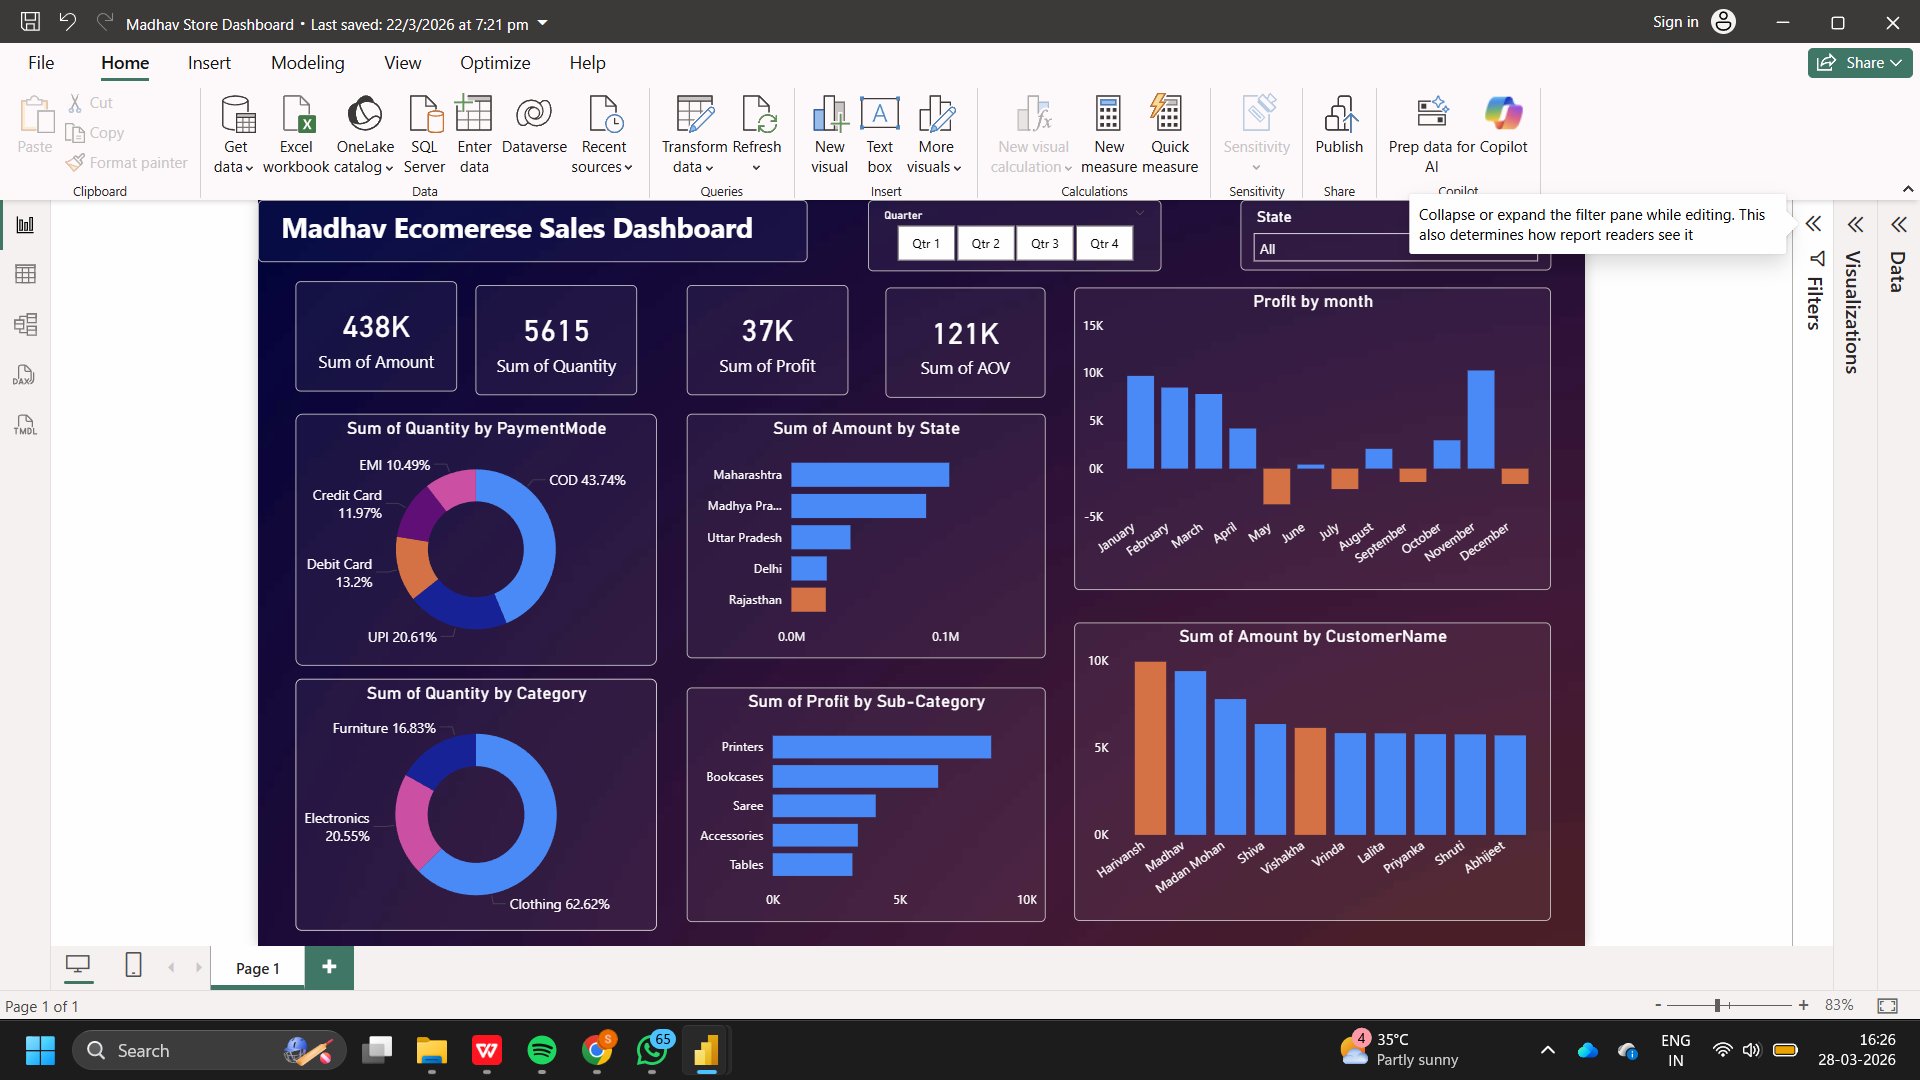

Layout of this report page (visuals, bound fields, positions):
{"tool":"powerbi","page":{"name":"Page 1","canvas":[1280,720],"ordinal":0},"visuals":[{"type":"textbox","box":[0,0,530,60],"z":0},{"type":"clusteredColumnChart","title":"ProfIt by month","fields":{"Category":["Orders.Order Date.Variation.Date Hierarchy.Month"],"Y":["Sum(Details.Profit)"]},"box":[788,84,460,292],"z":1000},{"type":"clusteredBarChart","fields":{"Category":["Details.Sub-Category"],"Y":["Sum(Details.Profit)"]},"box":[414,470,346,226],"z":2000},{"type":"donutChart","fields":{"Category":["Details.Category"],"Y":["Sum(Details.Quantity)"]},"box":[35.7,462.4,348.5,242.9],"z":3000},{"type":"donutChart","fields":{"Y":["Sum(Details.Quantity)"],"Category":["Details.PaymentMode"]},"box":[35.7,205.8,348.5,242.9],"z":4000},{"type":"card","fields":{"Values":["Sum(Details.Amount)"]},"box":[36,78,156,106],"z":5000},{"type":"card","fields":{"Values":["Sum(Details.Quantity)"]},"box":[210,82,156,106],"z":6000},{"type":"card","fields":{"Values":["Sum(Details.Profit)"]},"box":[414,82,156,106],"z":7000},{"type":"card","fields":{"Values":["Sum(Details.AOV)"]},"box":[606,84,154,106],"z":8000},{"type":"clusteredBarChart","fields":{"Category":["Orders.State"],"Y":["Sum(Details.Amount)"]},"box":[414,206,346,236],"z":9000},{"type":"clusteredColumnChart","fields":{"Category":["Orders.CustomerName"],"Y":["Sum(Details.Amount)"]},"box":[788,408,460,288],"z":10000},{"type":"slicer","fields":{"Values":["Orders.Order Date.Variation.Date Hierarchy.Quarter"]},"box":[588.6,0,282.9,68.6],"z":11000},{"type":"slicer","fields":{"Values":["Orders.State"]},"box":[948,0,300,68],"z":12000}]}

Visuals, with their boxes on the page's 1280x720 design canvas (x1, y1, x2, y2). These are canvas units, not pixel positions in the 1920x1080 screenshot, which may show the page scaled, cropped or inside an application window:
textbox: 0 0 530 60
"ProfIt by month" clusteredColumnChart: 788 84 1248 376
clusteredBarChart - Details.Sub-Category x Sum(Details.Profit): 414 470 760 696
donutChart - Details.Category x Sum(Details.Quantity): 36 462 384 705
donutChart - Sum(Details.Quantity) x Details.PaymentMode: 36 206 384 449
card - Sum(Details.Amount): 36 78 192 184
card - Sum(Details.Quantity): 210 82 366 188
card - Sum(Details.Profit): 414 82 570 188
card - Sum(Details.AOV): 606 84 760 190
clusteredBarChart - Orders.State x Sum(Details.Amount): 414 206 760 442
clusteredColumnChart - Orders.CustomerName x Sum(Details.Amount): 788 408 1248 696
slicer - Orders.Order Date.Variation.Date Hierarchy.Quarter: 589 0 872 69
slicer - Orders.State: 948 0 1248 68
